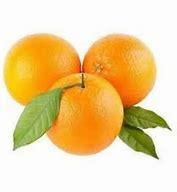orange: (27, 71, 129, 159), (83, 35, 165, 105), (5, 29, 78, 100)
